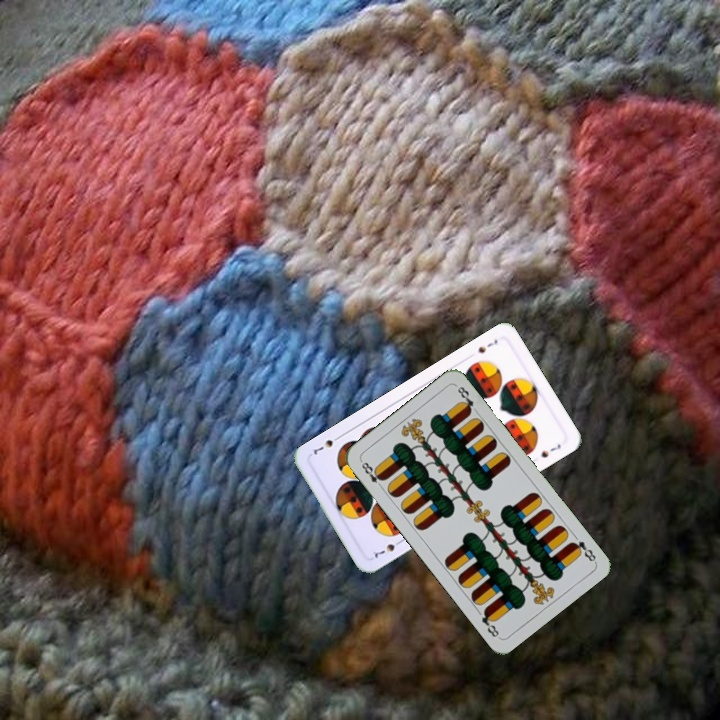E8: (357, 457, 387, 492), (566, 536, 599, 565)
S7: (368, 535, 406, 562), (474, 335, 500, 356)
